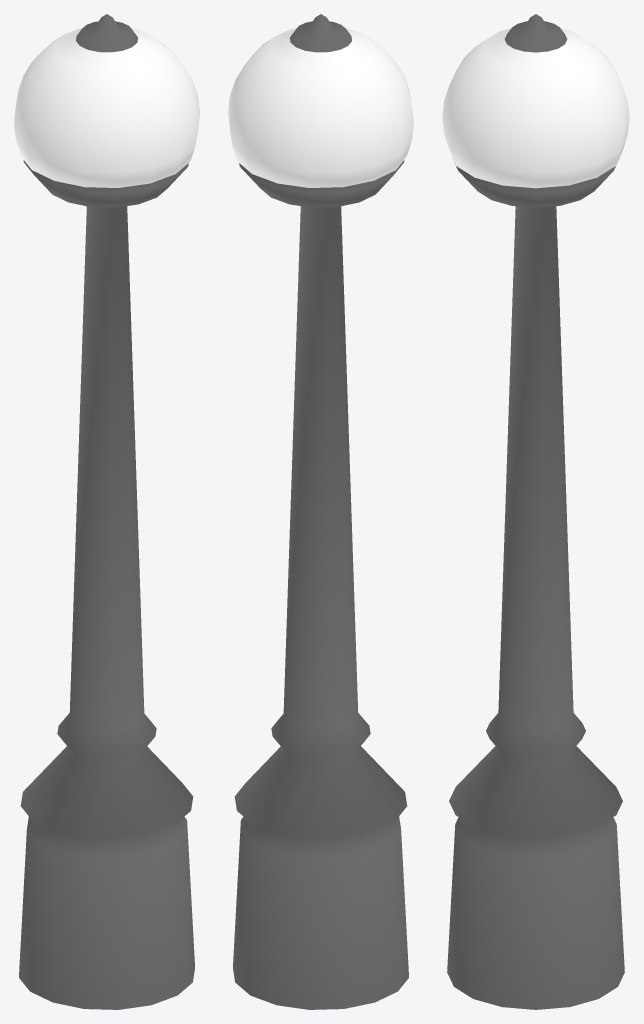
Rendered from object_78_lev1.glb.
3 views of the same model, side by side, from view 1: azimuth 30°, elevation 25°; view 2: azimuth 150°, elevation 25°; view 3: azimuth 270°, elevation 25° (orthographic).
Parts seen in each view (by area): view 1: object_78_lev1; view 2: object_78_lev1; view 3: object_78_lev1.
Part boxes in pixels (bbox=[...]): object_78_lev1: bbox=[14, 14, 199, 1009]; object_78_lev1: bbox=[228, 14, 413, 1009]; object_78_lev1: bbox=[442, 14, 629, 1009].
Bounding box in the file's own units: 0.1464 × 0.8256 × 0.1464.
Materials: 1 (1 with a texture image).
